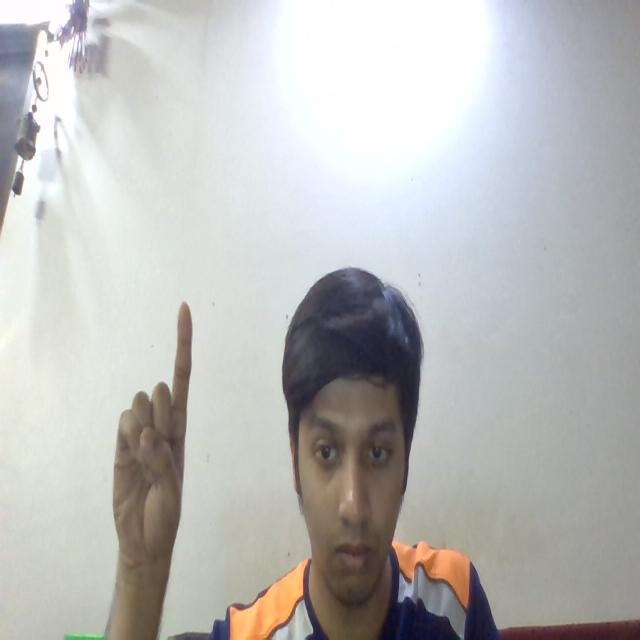Z: (92, 280, 218, 583)
